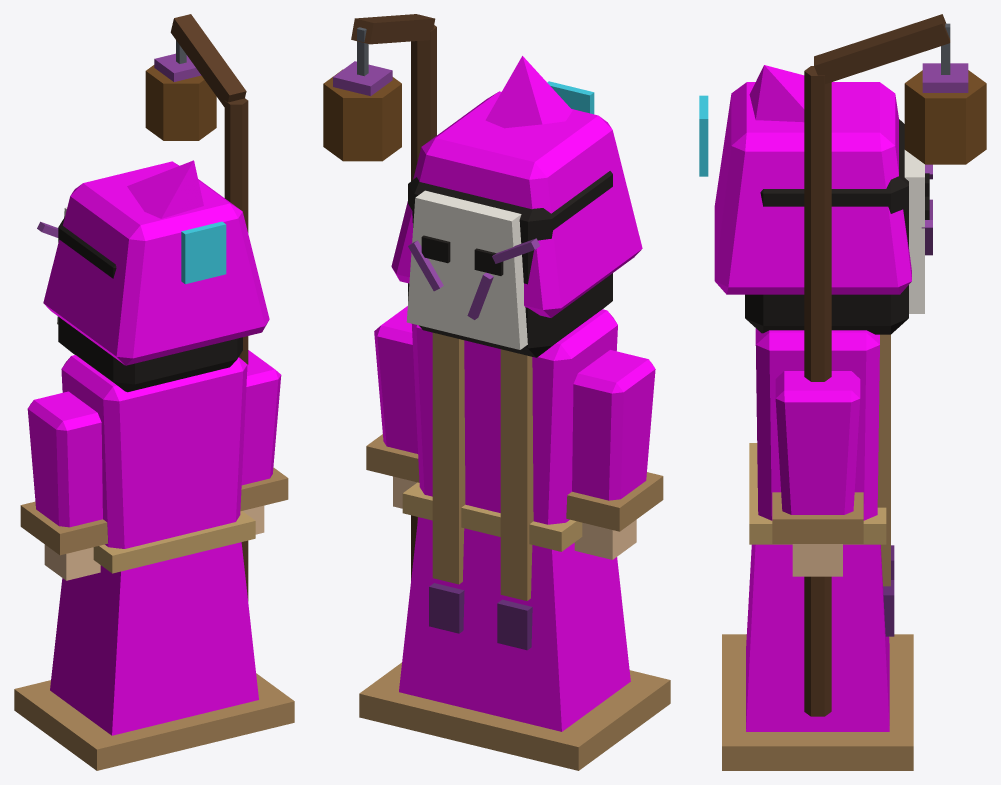
Rendered from CH_AshenOracle_BoneOracle.fbx.
The picture shows the model from 3 angles, left to right: view 1: azimuth 30°, elevation 25°; view 2: azimuth 150°, elevation 25°; view 3: azimuth 270°, elevation 25°; orthographic projection. The views are drawn at different scales.
Parts seen in each view (by area): view 1: Robe, Hood, Body, Hem, ArmL, Head, Censer, ArmR, Belt, Pole, HoodTip, Hook (+5 smaller); view 2: Robe, Hood, Body, Mask, Hem, ArmL, StoleL, StoleR, Head, Censer, ArmR, HoodTip (+12 smaller); view 3: Hood, Robe, Pole, Hem, ArmR, Body, Head, Censer, Hook, CuffR, StoleR, HoodTip (+6 smaller).
Part boxes in pixels (box(x1,y1,x2,y2)): Robe: box(50, 542, 258, 735); Hood: box(43, 161, 269, 365); Body: box(61, 355, 247, 548); Hem: box(14, 673, 294, 770); ArmL: box(27, 391, 102, 527); Head: box(58, 217, 242, 392); Censer: box(145, 65, 216, 140); ArmR: box(241, 350, 281, 485); Belt: box(93, 511, 255, 573); Pole: box(224, 98, 248, 600); HoodTip: box(127, 160, 203, 218); Hook: box(170, 14, 246, 106); Robe: box(399, 517, 630, 731); Hood: box(391, 91, 642, 317); Body: box(412, 309, 617, 524); Mask: box(406, 190, 527, 349); Hem: box(359, 662, 670, 770); ArmL: box(572, 350, 655, 500); StoleL: box(500, 349, 533, 600); StoleR: box(432, 332, 465, 584); Head: box(408, 171, 612, 357); Censer: box(323, 69, 401, 161); ArmR: box(374, 306, 417, 453); HoodTip: box(485, 56, 572, 128); Hood: box(714, 82, 911, 294); Robe: box(746, 544, 889, 731); Pole: box(804, 66, 831, 716); Hem: box(722, 634, 913, 770); ArmR: box(775, 371, 860, 514); Body: box(755, 328, 879, 520); Head: box(745, 119, 908, 334); Censer: box(904, 70, 986, 164); Hook: box(814, 14, 950, 84); CuffR: box(772, 492, 863, 543); StoleR: box(877, 334, 890, 586); HoodTip: box(749, 65, 804, 122).
Size of the model in its own units: 0.67 by 0.63 by 1.81.
